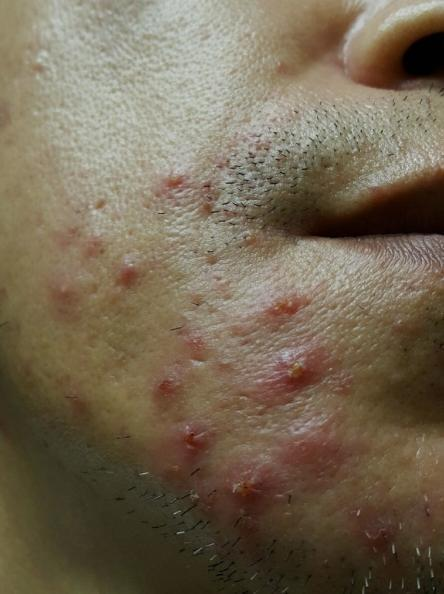cystic: (277, 351, 320, 395), (291, 423, 329, 469), (227, 469, 275, 505)
papular: (106, 251, 156, 294), (144, 365, 188, 407)
purulent: (45, 275, 90, 313), (160, 160, 194, 203)
sebo-crystan-conglo: (263, 289, 310, 327)
